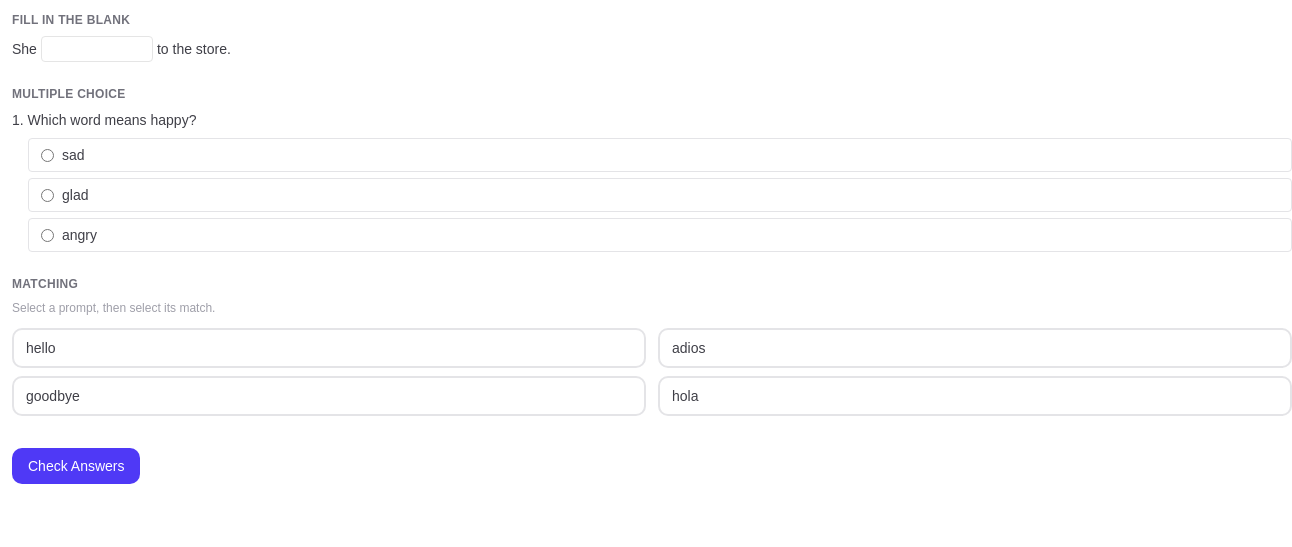
it: ExercisesRenderer.Student › does not show explanation when answer is correct
Type "went" into the field with test id "fib-input-0" at (97,49), box [41,36,153,62]
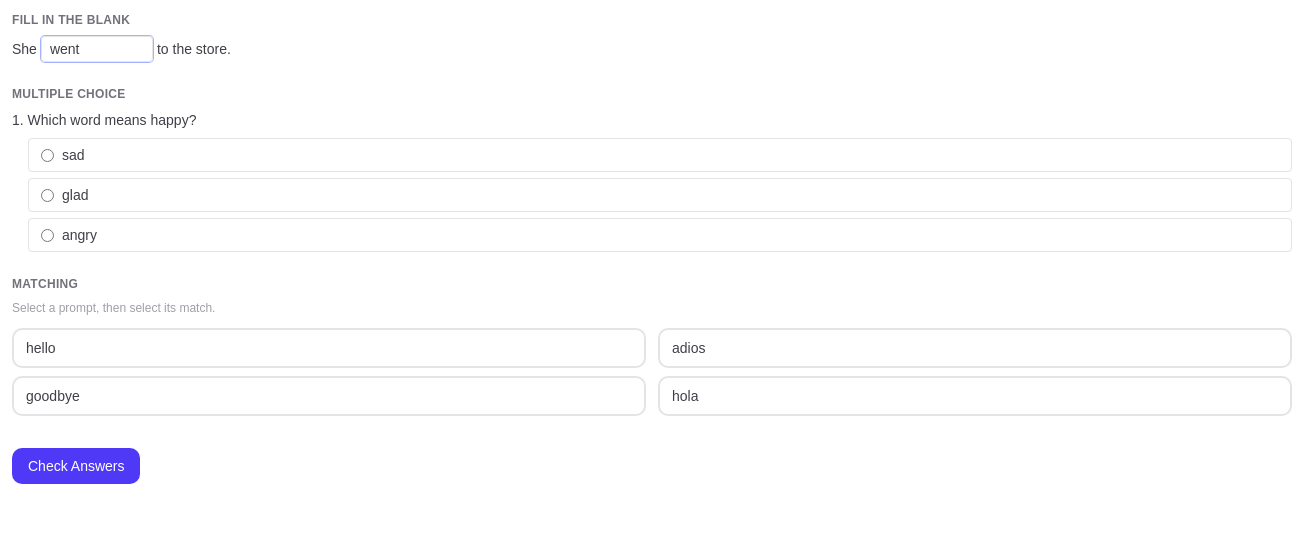
Click the button with test id "check-answers-btn" at (76,466), box [12,448,140,484]
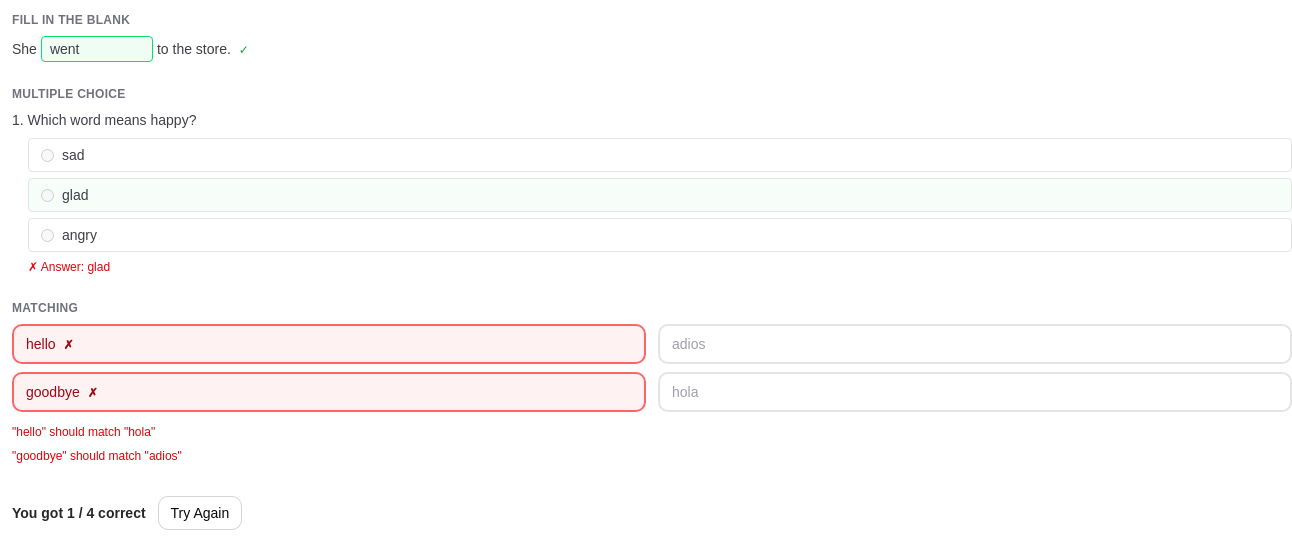
Result: the text with test id "fib-result-0" reads "✓" at [239,43,249,57]
